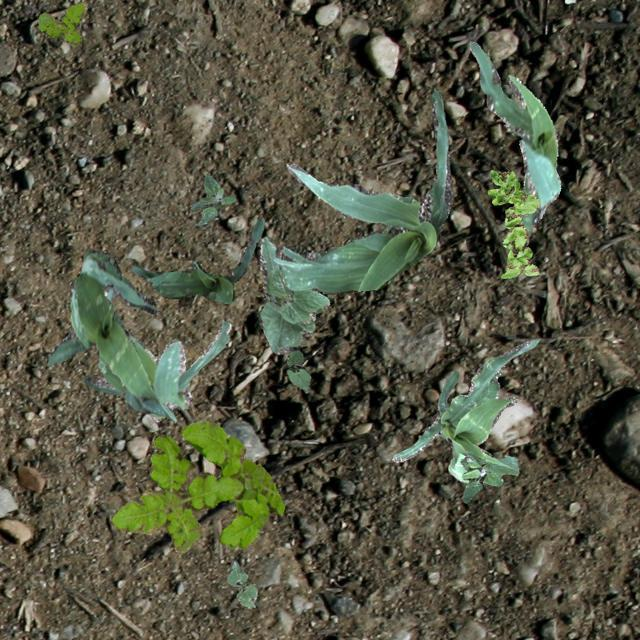crop: (273, 86, 452, 292), (46, 250, 176, 420), (392, 338, 538, 482), (82, 284, 230, 420), (468, 41, 560, 246), (130, 216, 264, 302), (258, 235, 328, 354), (224, 558, 256, 606), (284, 348, 310, 392)
weed: (112, 419, 284, 552), (486, 168, 538, 278), (190, 174, 234, 224), (460, 450, 502, 502), (36, 1, 86, 44)
